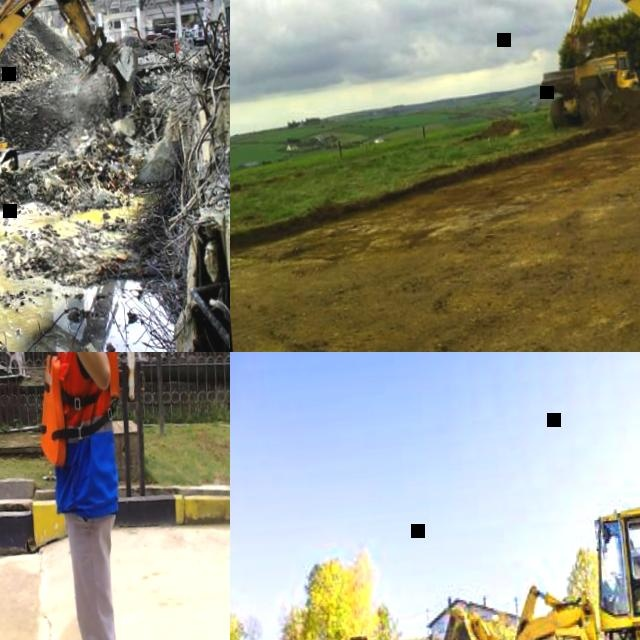Person: (23, 352, 158, 640)
Safety Vest: (27, 352, 129, 470)
machinery: (413, 484, 640, 640), (0, 0, 146, 197), (529, 0, 640, 131), (194, 22, 206, 42)
